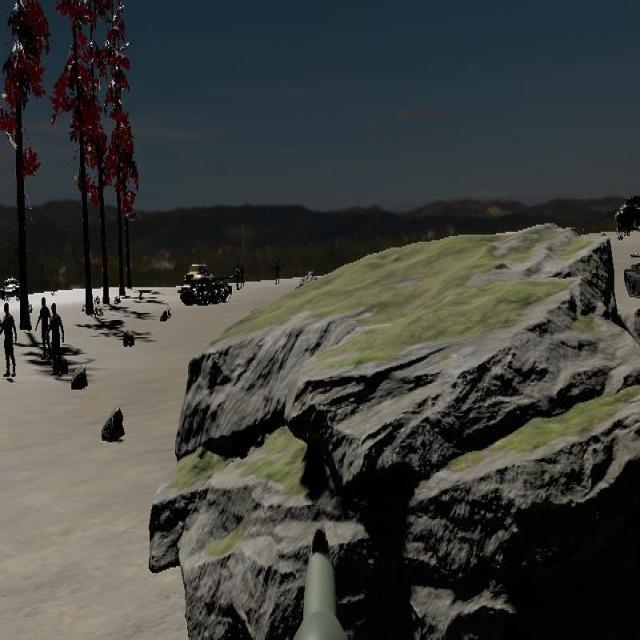Tank: (179, 271, 234, 306), (624, 245, 640, 301)
